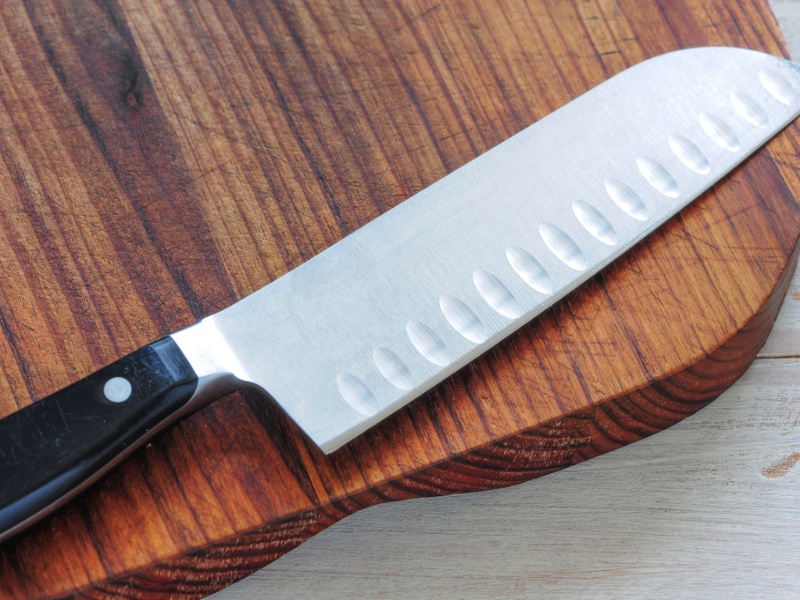knife: (1, 45, 800, 543)
